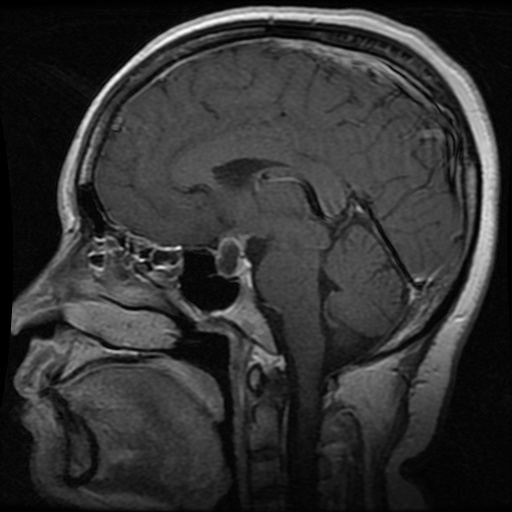pituitary: (214, 234, 250, 278)
